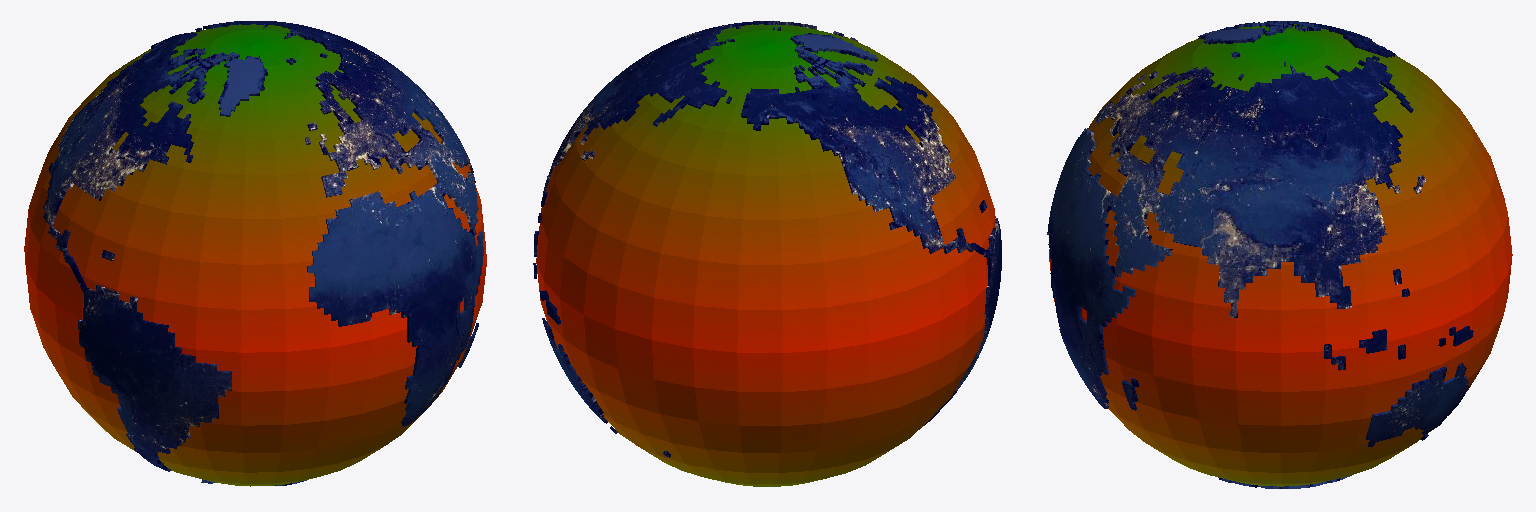
3 views of the same model, side by side, from view 1: azimuth 30°, elevation 25°; view 2: azimuth 150°, elevation 25°; view 3: azimuth 270°, elevation 25° (orthographic).
Visible parts, largest first — view 1: Earth_Sphere, Map_Sphere; view 2: Earth_Sphere, Map_Sphere; view 3: Earth_Sphere, Map_Sphere.
Part boxes in pixels (left/top/right/bottom): Earth_Sphere: left=24, top=24, right=486, bottom=486; Map_Sphere: left=43, top=21, right=483, bottom=485; Earth_Sphere: left=536, top=24, right=995, bottom=486; Map_Sphere: left=533, top=21, right=1001, bottom=457; Earth_Sphere: left=1049, top=24, right=1512, bottom=486; Map_Sphere: left=1047, top=21, right=1473, bottom=488.
Bounding box in the file's own units: 74.41 × 74.9 × 74.64.
Materials: 2 (2 with a texture image).